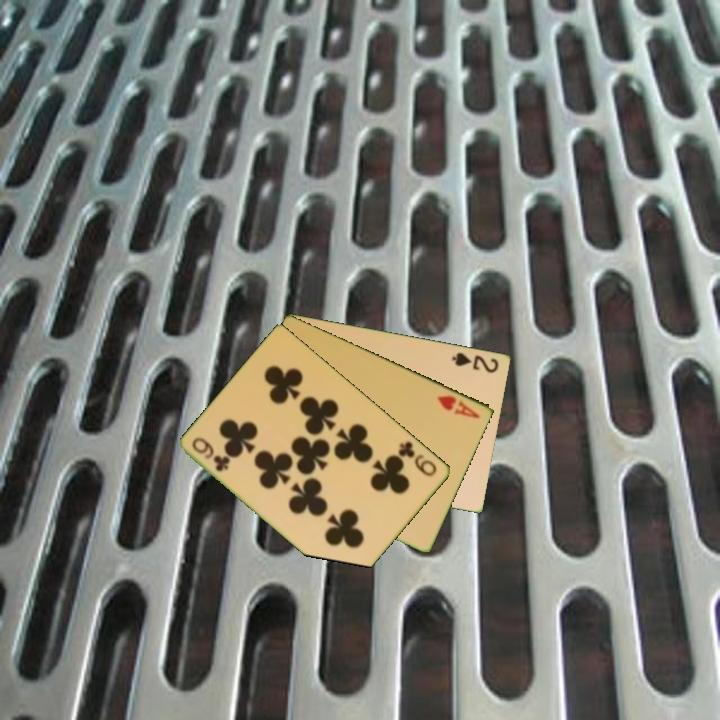2s: (449, 349, 502, 375)
9c: (395, 437, 440, 479), (189, 433, 233, 474)
Ah: (434, 392, 483, 421)
